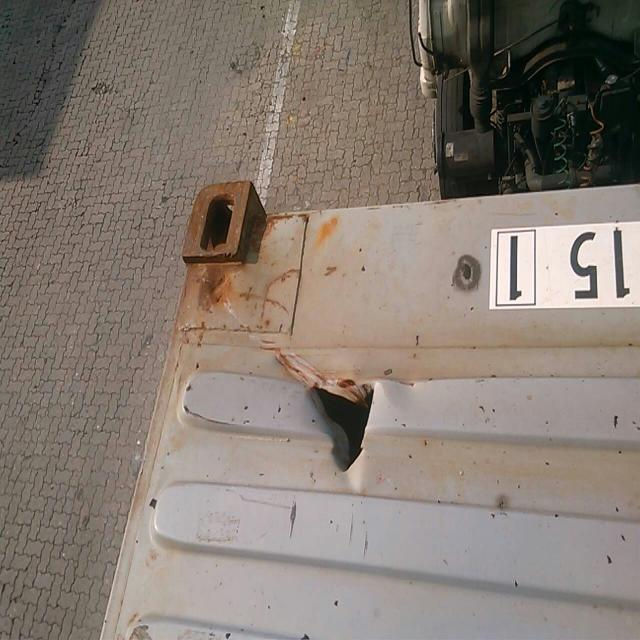hole: (296, 369, 394, 489)
